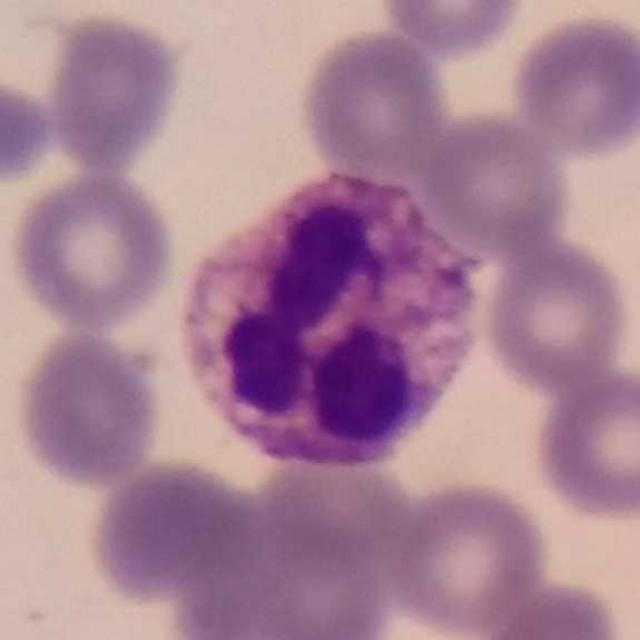Neutrophil: (156, 159, 501, 489)
RBC: (84, 454, 277, 622), (188, 500, 400, 640), (379, 475, 553, 639), (6, 169, 180, 333), (478, 234, 636, 398), (11, 326, 168, 490), (244, 441, 423, 583), (43, 9, 187, 175), (294, 26, 447, 182), (420, 111, 574, 257), (507, 8, 640, 161), (530, 364, 640, 526), (473, 579, 628, 640), (375, 0, 530, 58), (0, 70, 59, 186)
